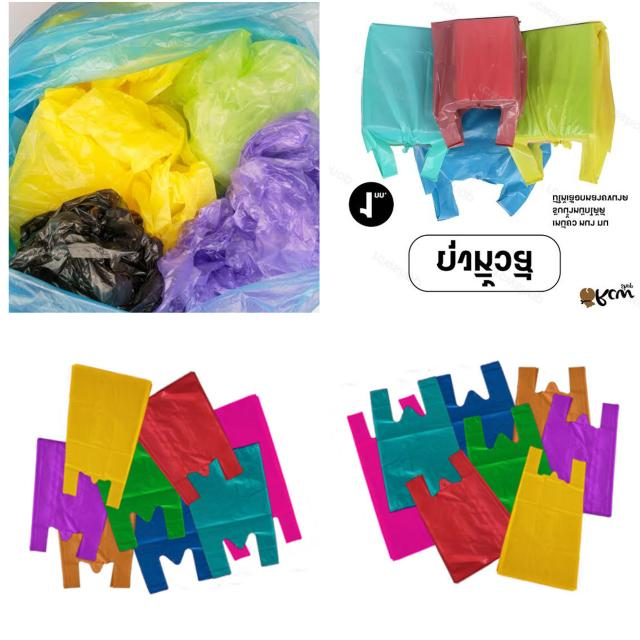plastik: (9, 2, 319, 164), (9, 61, 216, 249), (158, 112, 319, 312), (181, 30, 319, 185), (10, 190, 163, 310), (510, 23, 614, 184), (406, 450, 510, 583), (139, 372, 243, 504), (361, 25, 448, 180), (497, 447, 586, 591), (347, 413, 434, 560), (421, 108, 534, 221), (215, 395, 301, 543), (63, 365, 152, 508), (431, 17, 526, 147), (188, 444, 279, 578), (370, 377, 460, 512), (30, 438, 107, 560), (542, 395, 619, 517), (106, 443, 185, 551), (464, 404, 543, 512), (436, 362, 514, 452), (135, 502, 211, 593), (515, 367, 590, 436), (59, 520, 134, 588), (399, 395, 422, 413)
